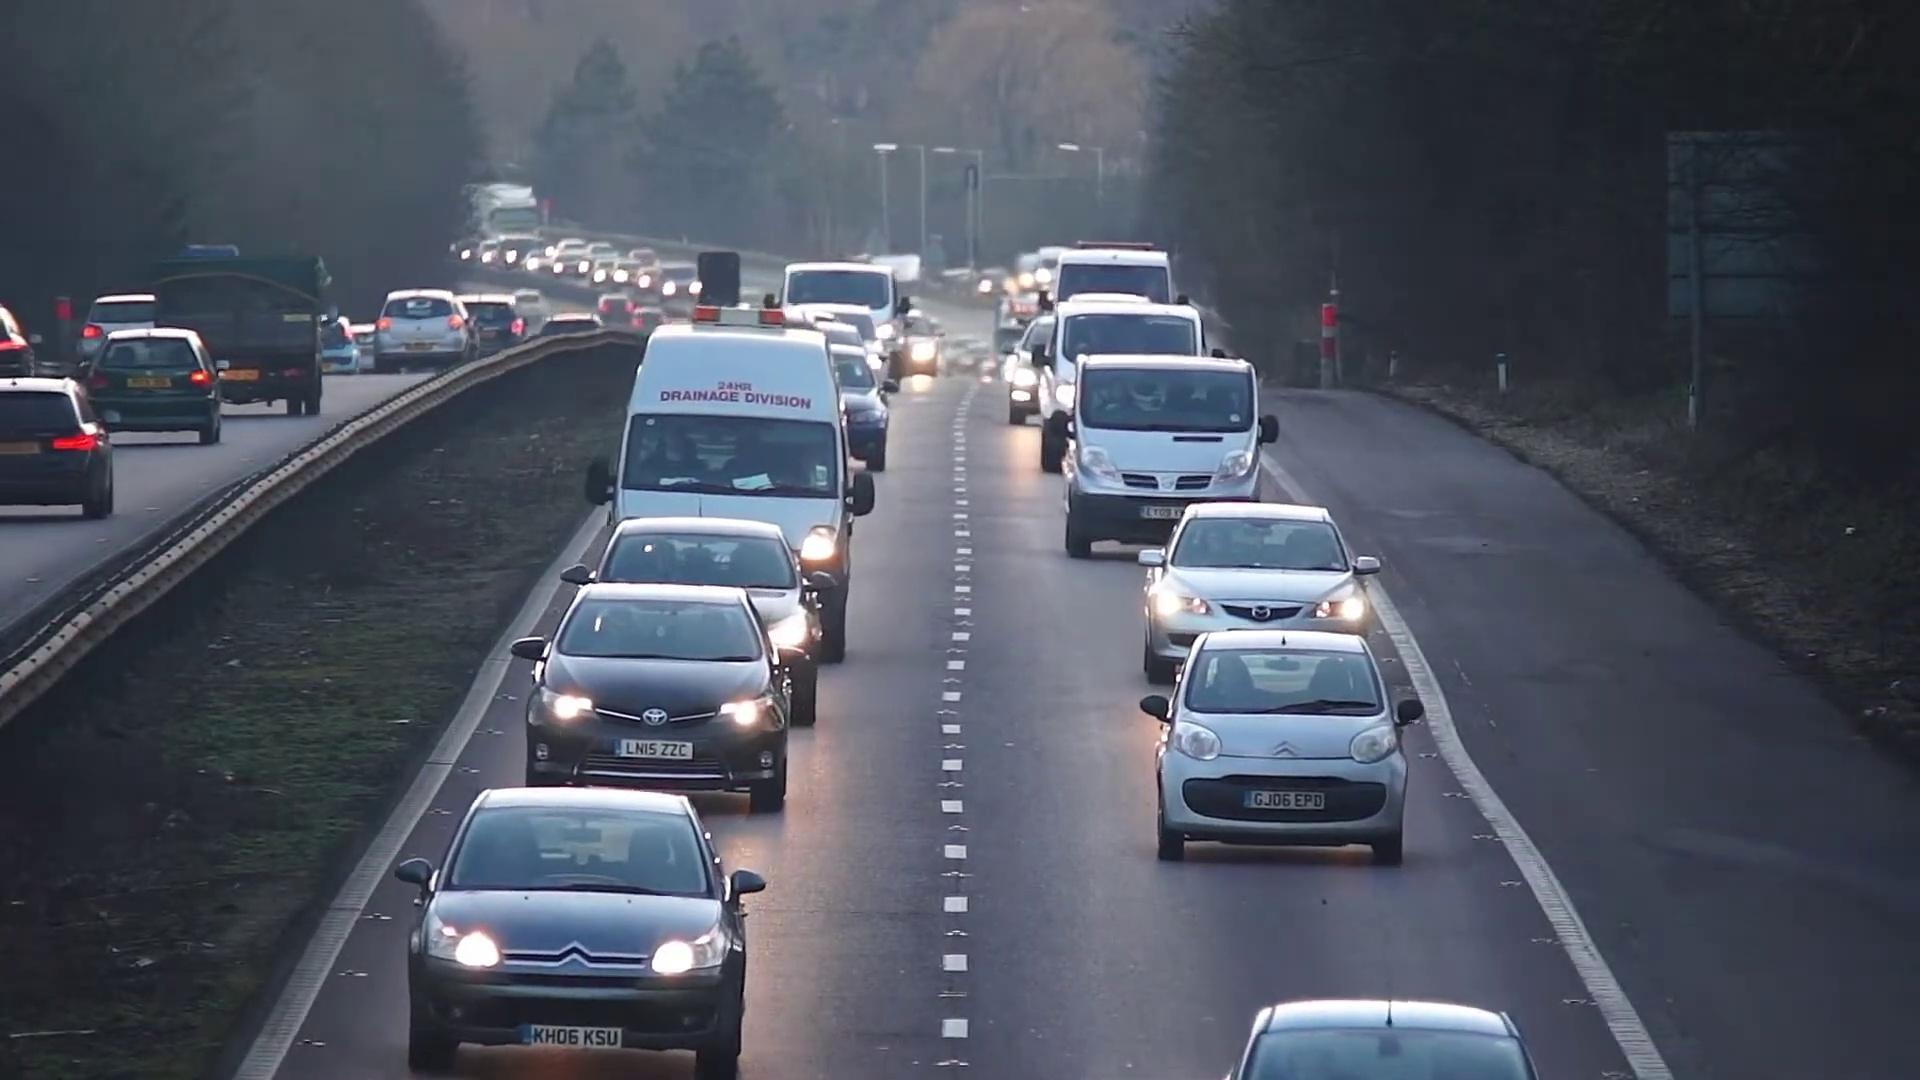license_plate: (515, 1022, 624, 1051), (1241, 788, 1326, 814), (616, 738, 693, 762)
